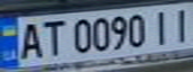0: (66, 16, 93, 54), (127, 11, 151, 48), (90, 14, 112, 53)
9: (109, 12, 130, 52)
A: (15, 19, 45, 61)
I: (148, 7, 175, 45), (169, 3, 193, 43)
T: (36, 17, 66, 57)
